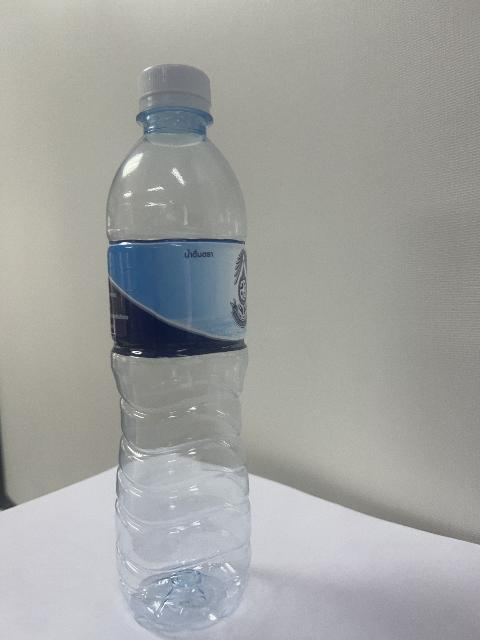bottle: (108, 65, 250, 633)
